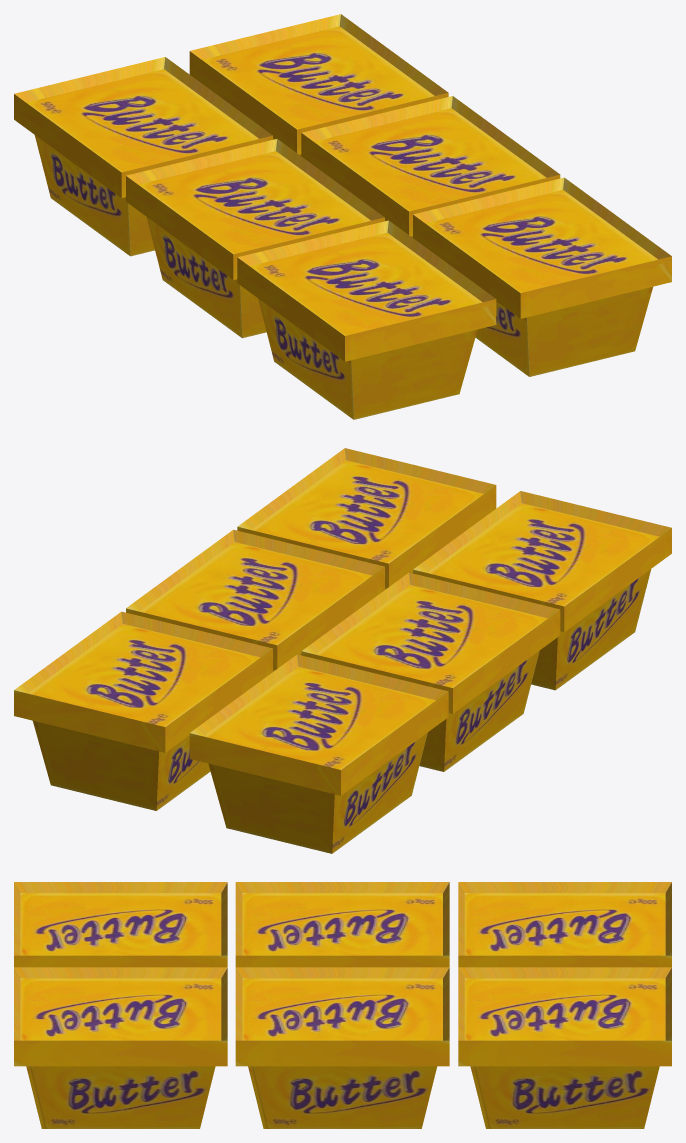
The model's file is butterpile.fbx.
3 views of the same model, one above another, from view 1: azimuth 30°, elevation 25°; view 2: azimuth 150°, elevation 25°; view 3: azimuth 270°, elevation 25° (orthographic).
Visible parts, largest first — view 1: Buttler.003; view 2: Buttler.003; view 3: Buttler.003.
Part boxes in pixels (<box>): Buttler.003: <box>14,14,671,419</box>; Buttler.003: <box>14,448,671,853</box>; Buttler.003: <box>14,882,671,1128</box>.
Size of the model in its own units: 110 by 32.09 by 193.
